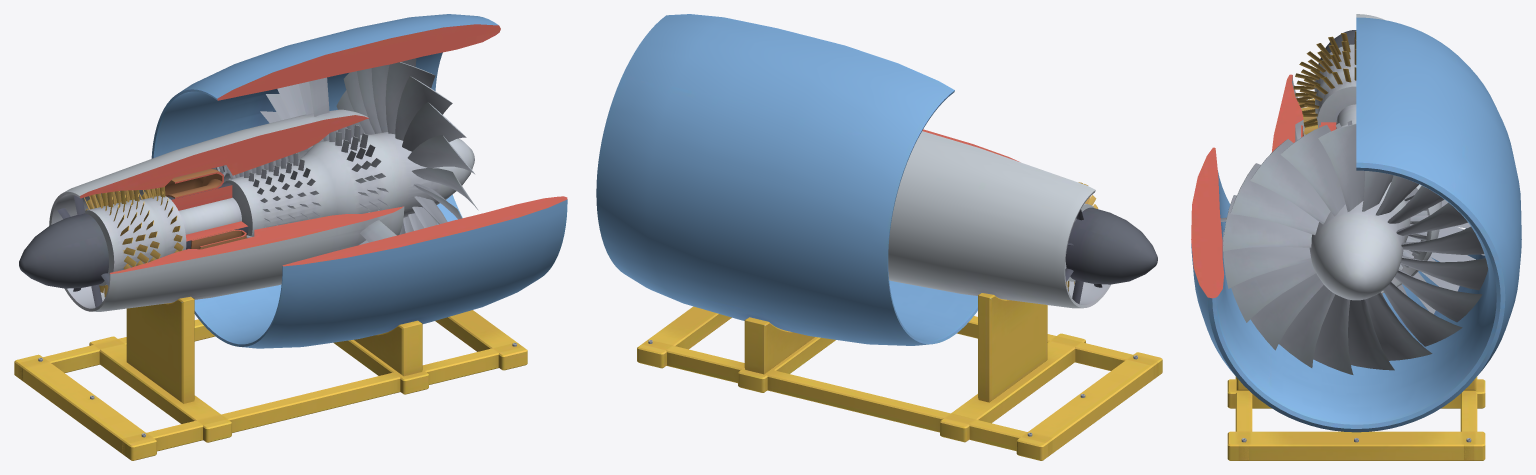
Rendered from turbofan.glb.
3 views of the same model, side by side, from view 1: azimuth 30°, elevation 25°; view 2: azimuth 150°, elevation 25°; view 3: azimuth 270°, elevation 25° (orthographic). The views are drawn at different scales.
Visible parts, largest first — view 1: jet-engine_body, jet-engine_rotor; view 2: jet-engine_body; view 3: jet-engine_body, jet-engine_rotor.
Boxes of the visible parts, x1=… form: jet-engine_body: x1=14, y1=14, x2=567, y2=460; jet-engine_rotor: x1=84, y1=58, x2=478, y2=296; jet-engine_body: x1=596, y1=14, x2=1162, y2=460; jet-engine_body: x1=1191, y1=14, x2=1521, y2=460; jet-engine_rotor: x1=1223, y1=31, x2=1488, y2=374.
Bounding box in the file's own units: 3.66 × 2.2 × 2.
2 materials, 2 textured.
